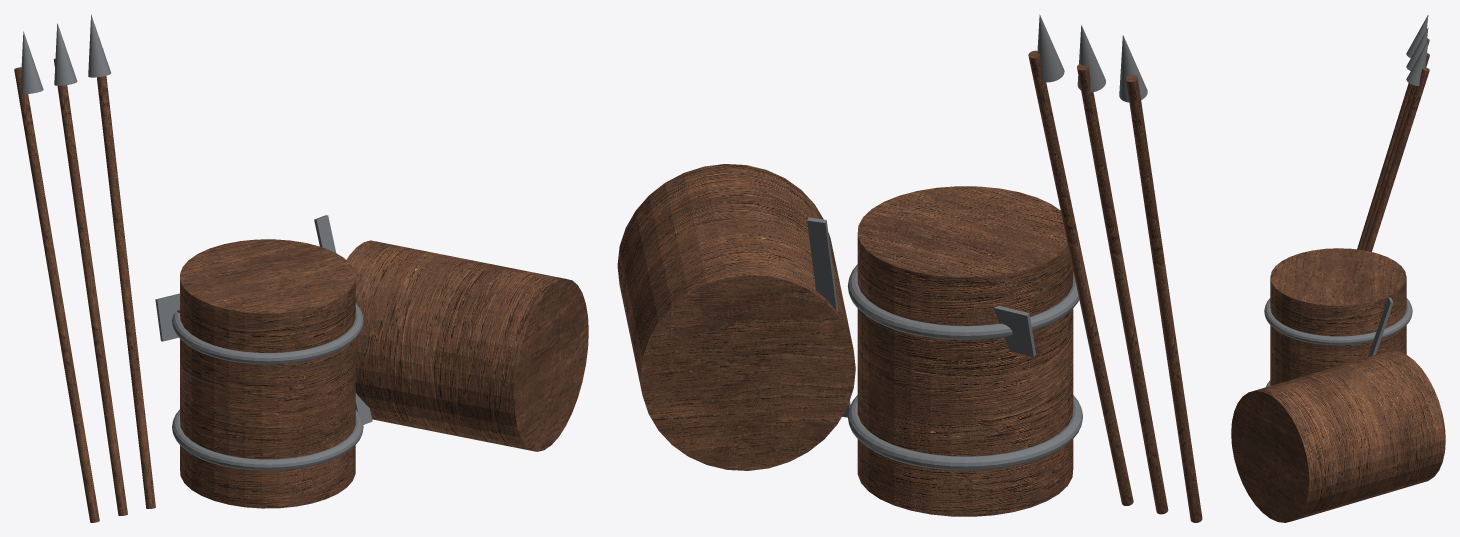
The model's file is citadel_wall_props.glb.
3 renders of one model, left to right at view 1: azimuth 30°, elevation 25°; view 2: azimuth 150°, elevation 25°; view 3: azimuth 270°, elevation 25°, orthographic. The views are drawn at different scales.
Visible parts, largest first — view 1: Barrel_Standing, Barrel_Tipped, Cylinder.002, Cylinder, Cylinder.001, Torus, Torus.001, Cube.001, Cube, Cone, Cone.001, Cone.002; view 2: Barrel_Standing, Barrel_Tipped, Cylinder, Cylinder.001, Cylinder.002, Torus, Torus.001, Cube, Cube.001, Cone, Cone.001, Cone.002; view 3: Barrel_Tipped, Barrel_Standing, Torus.001, Cylinder, Cylinder.001, Cylinder.002, Cube, Cone, Cone.001, Cone.002.
Part boxes in pixels (x1=…): Barrel_Standing: x1=180, y1=239, x2=355, y2=508; Barrel_Tipped: x1=346, y1=240, x2=588, y2=451; Cylinder.002: x1=14, y1=67, x2=99, y2=522; Cylinder: x1=97, y1=48, x2=155, y2=508; Cylinder.001: x1=53, y1=58, x2=127, y2=515; Torus: x1=172, y1=409, x2=363, y2=470; Torus.001: x1=172, y1=303, x2=363, y2=364; Cube.001: x1=155, y1=293, x2=179, y2=341; Cube: x1=314, y1=215, x2=372, y2=424; Cone: x1=88, y1=14, x2=111, y2=77; Cone.001: x1=54, y1=23, x2=77, y2=85; Cone.002: x1=20, y1=31, x2=43, y2=93; Barrel_Standing: x1=857, y1=186, x2=1073, y2=516; Barrel_Tipped: x1=617, y1=164, x2=855, y2=470; Cylinder: x1=1028, y1=50, x2=1133, y2=505; Cylinder.001: x1=1077, y1=64, x2=1168, y2=514; Cylinder.002: x1=1126, y1=74, x2=1202, y2=522; Torus: x1=847, y1=395, x2=1082, y2=470; Torus.001: x1=847, y1=264, x2=1079, y2=339; Cube: x1=807, y1=217, x2=850, y2=417; Cube.001: x1=993, y1=306, x2=1036, y2=356; Cone: x1=1037, y1=14, x2=1064, y2=82; Cone.001: x1=1077, y1=25, x2=1105, y2=92; Cone.002: x1=1119, y1=35, x2=1147, y2=102; Barrel_Tipped: x1=1231, y1=350, x2=1445, y2=522; Barrel_Standing: x1=1270, y1=248, x2=1406, y2=385; Torus.001: x1=1264, y1=298, x2=1412, y2=345; Cylinder: x1=1364, y1=67, x2=1429, y2=251; Cylinder.001: x1=1360, y1=53, x2=1429, y2=250; Cylinder.002: x1=1357, y1=38, x2=1429, y2=249; Cube: x1=1368, y1=297, x2=1393, y2=356; Cone: x1=1406, y1=40, x2=1428, y2=86; Cone.001: x1=1406, y1=27, x2=1428, y2=70; Cone.002: x1=1406, y1=15, x2=1428, y2=58.
Size of the model in its own units: 2.94 by 2.51 by 1.42.
Materials: 2 (1 with a texture image).
